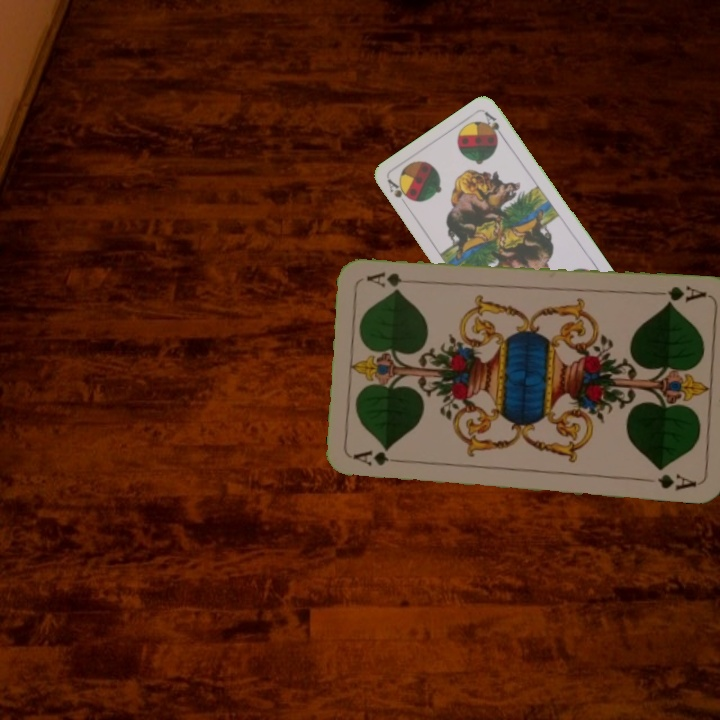GA: (651, 281, 709, 307), (350, 447, 409, 469)
SA: (383, 175, 414, 211)
